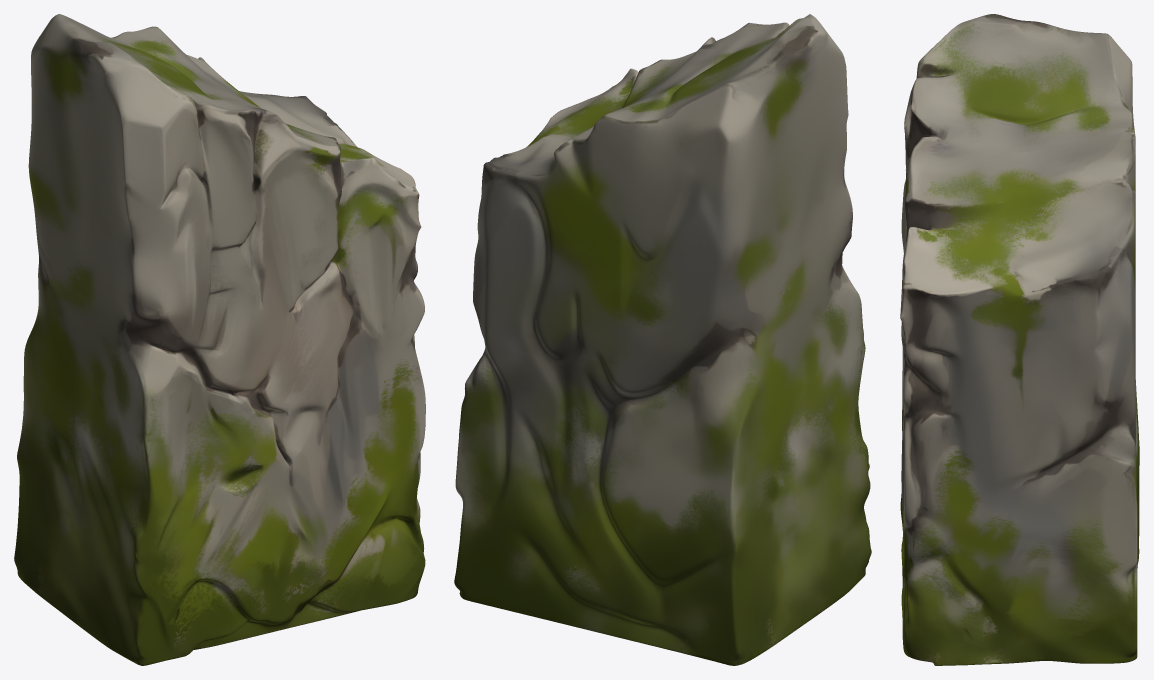
File: stone_broken_block_hunyuan_2026-11-14_6ede4fb9.glb
The picture shows the model from 3 angles, left to right: view 1: azimuth 30°, elevation 25°; view 2: azimuth 150°, elevation 25°; view 3: azimuth 270°, elevation 25°; orthographic projection. The views are drawn at different scales.
Visible parts, largest first — view 1: node_0; view 2: node_0; view 3: node_0.
Boxes of the visible parts, x1,y1,x2,y2 form: node_0: (14,14,425,665); node_0: (454,14,871,665); node_0: (900,14,1139,665).
Size of the model in its own units: 0.545 by 1.01 by 0.4161.
Materials: 1 (1 with a texture image).
